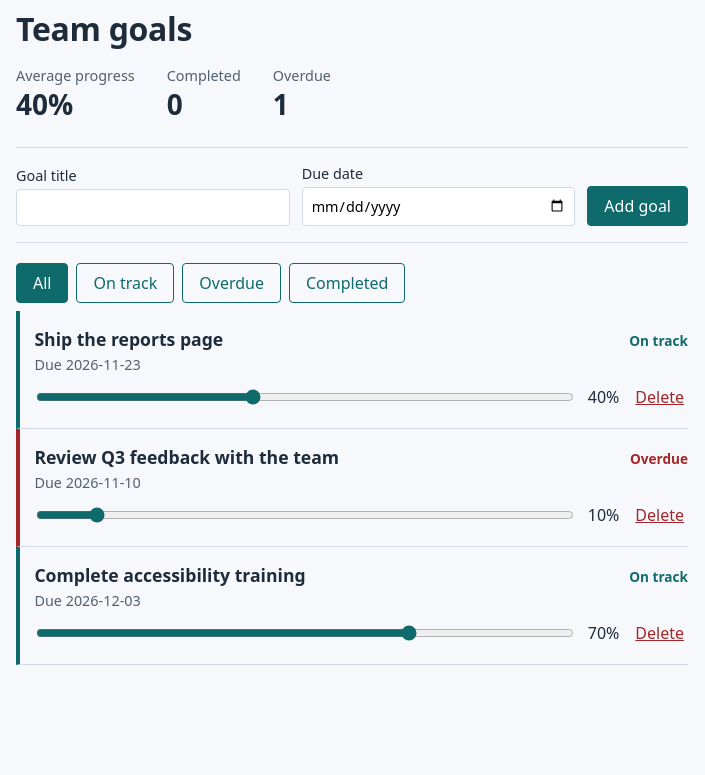
Test: App › adds a goal from the form
Type "Write unit tests" into the field labelled "Goal title".
click(153, 208); type("Write unit tests")  # box 16,189 -> 290,226
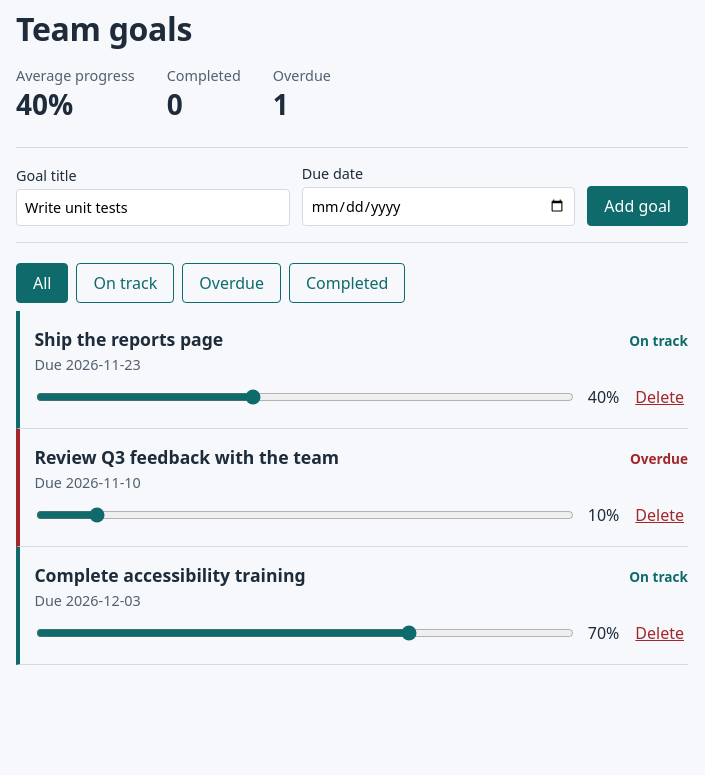
Type "2099-01-01" into the date field labelled "Due date".
click(439, 206); type("2099-01-01")  # box 302,187 -> 575,226
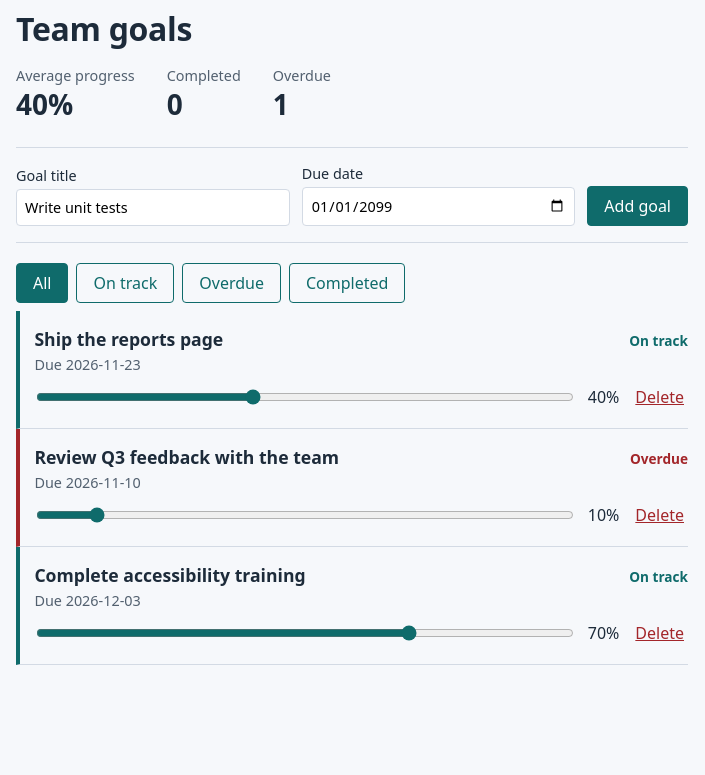
Click the button "Add goal".
click(638, 206)  # box 587,186 -> 688,226
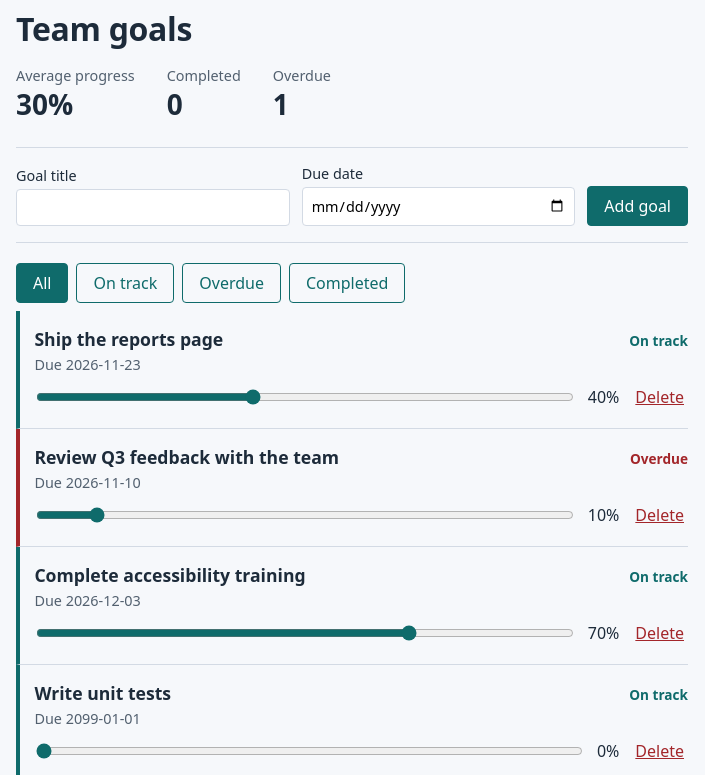
Expected: the heading "Write unit tests" is shown, 34,681 -> 171,705
